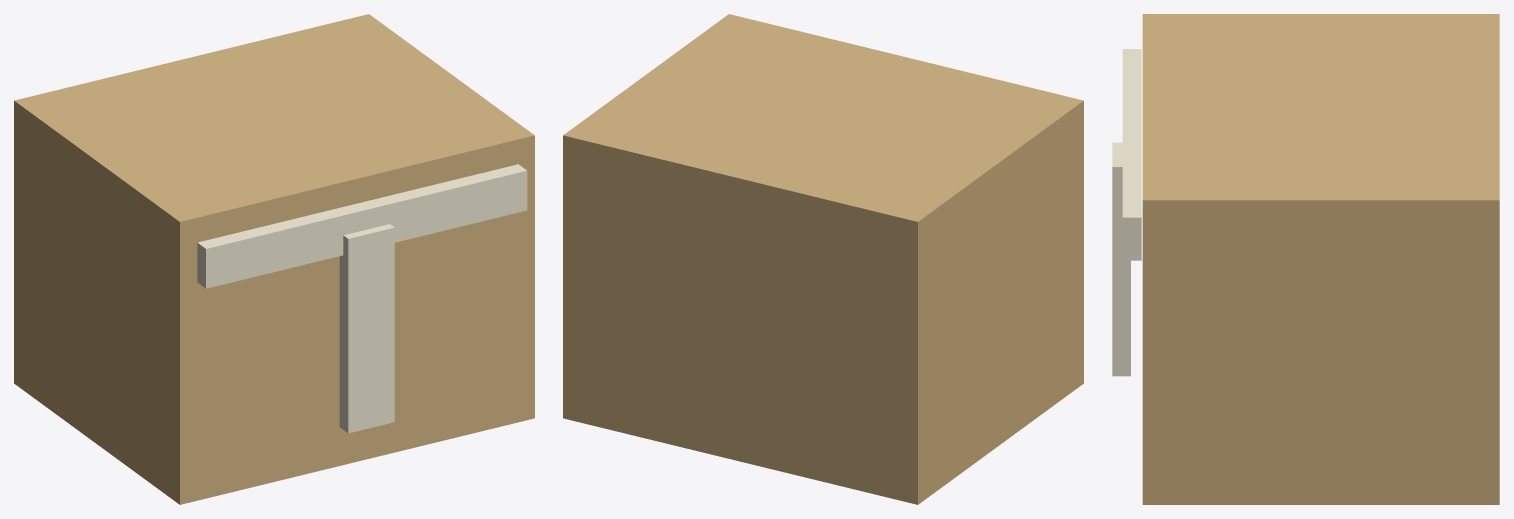
Rendered from parcel_box.glb.
3 views of the same model, side by side, from view 1: azimuth 30°, elevation 25°; view 2: azimuth 150°, elevation 25°; view 3: azimuth 270°, elevation 25° (orthographic). The views are drawn at different scales.
Visible parts, largest first — view 1: box, tape_h, tape_v; view 2: box; view 3: box, tape_h, tape_v.
Boxes of the visible parts, x1,y1,x2,y2 form: box: (14, 14, 534, 504); tape_h: (197, 164, 527, 288); tape_v: (339, 224, 394, 433); box: (563, 14, 1083, 504); box: (1142, 14, 1499, 504); tape_h: (1122, 49, 1141, 260); tape_v: (1112, 142, 1130, 376).
Size of the model in its own units: 0.42 by 0.32 by 0.369.
